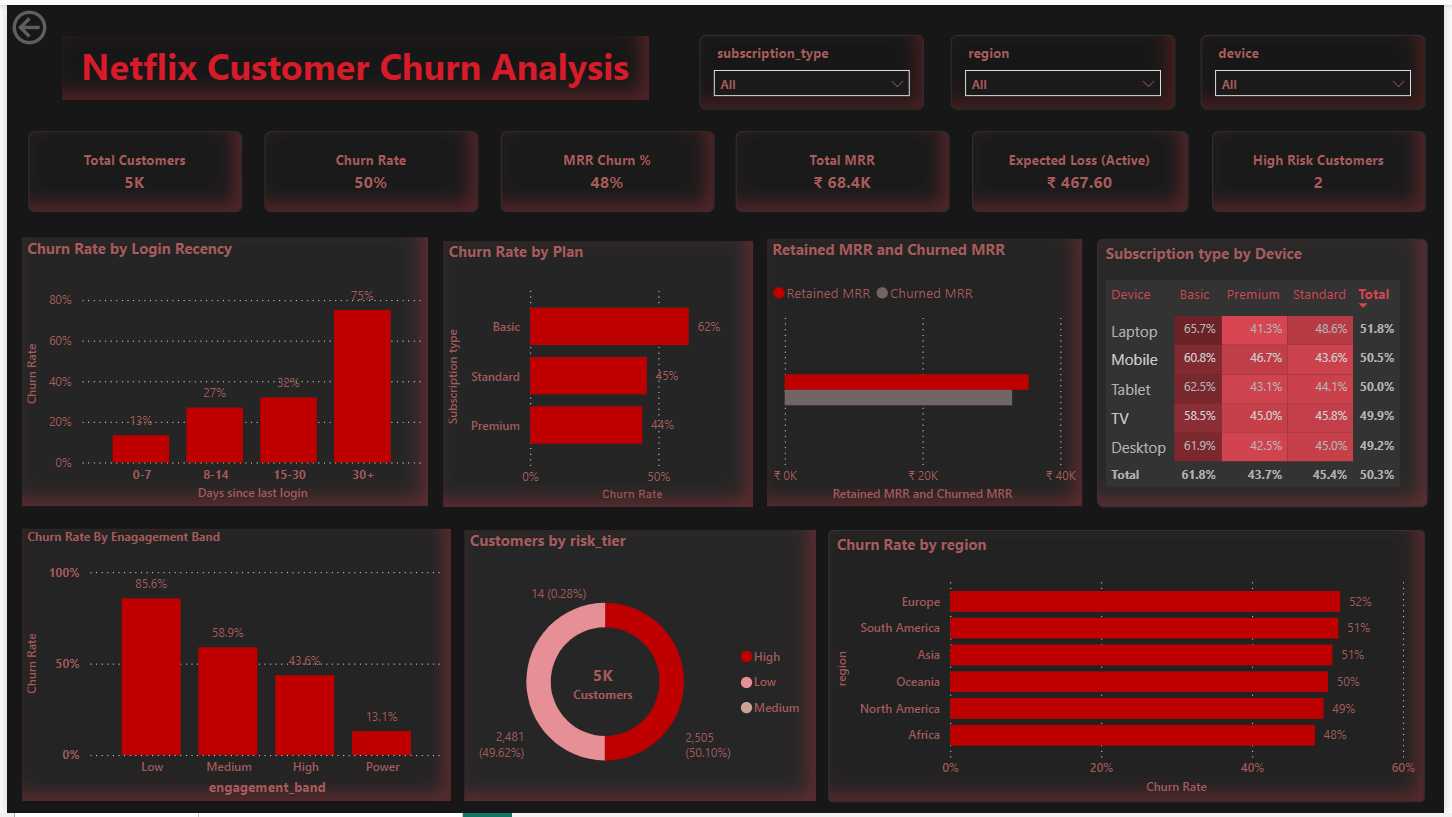

The dashboard page shown, as its layout file describes it:
{"tool":"powerbi","page":{"name":"Executive Summary","canvas":[1280,720],"ordinal":0},"visuals":[{"type":"cardVisual","fields":{"Data":["churn_scored.Churn Rate"]},"box":[228.9,112.5,190,72],"z":0},{"type":"clusteredBarChart","title":"Churn Rate by Plan","fields":{"Category":["churn_scored.subscription_type"],"Y":["churn_scored.Churn Rate"]},"box":[388.5,209.9,276.3,236.5],"z":1000},{"type":"clusteredBarChart","title":"Churn Rate by region","fields":{"Y":["churn_scored.Churn Rate"],"Category":["churn_scored.region"]},"box":[731.2,467.5,530.8,242.5],"z":2000},{"type":"slicer","fields":{"Values":["churn_scored.subscription_type"]},"box":[617.1,27.1,200,66],"z":3000},{"type":"slicer","fields":{"Values":["churn_scored.region"]},"box":[840,27.1,200,66],"z":4000},{"type":"slicer","fields":{"Values":["churn_scored.device"]},"box":[1062.9,27.1,200,66],"z":5000},{"type":"textbox","box":[49.5,27.7,522.4,56.7],"z":6000},{"type":"clusteredColumnChart","title":"Churn Rate by Login Recency","fields":{"Y":["churn_scored.Churn Rate"],"Category":["churn_scored.recency_bucket"]},"box":[13.3,207.5,361.9,238.9],"z":7000},{"type":"clusteredColumnChart","title":"Churn Rate By Enagagement Band","fields":{"Y":["churn_scored.Churn Rate"],"Category":["churn_scored.engagement_band"]},"box":[13.8,466.2,381.2,242.5],"z":8000},{"type":"pivotTable","title":"Subscription type by Device","fields":{"Rows":["churn_scored.device"],"Columns":["churn_scored.subscription_type"],"Values":["churn_scored.Churn Rate"]},"box":[970.3,207.8,294.4,238.9],"z":9000},{"type":"donutChart","fields":{"Category":["churn_scored.risk_tier"],"Y":["churn_scored.Customers"]},"box":[407.1,467.1,312.9,241.4],"z":10000},{"type":"actionButton","box":[0,0,100,40],"z":11000},{"type":"clusteredBarChart","fields":{"Y":["churn_scored.Retained MRR","churn_scored.Churned MRR"]},"box":[676.4,207.8,280.4,238.6],"z":12000},{"type":"cardVisual","fields":{"Data":["churn_scored.MRR Churn %"]},"box":[439.2,112.5,190,72],"z":13000},{"type":"cardVisual","fields":{"Data":["churn_scored.Customers"]},"box":[18.6,112.5,190,72],"z":14000},{"type":"cardVisual","fields":{"Data":["Save Rate.Expected Loss (Active)"]},"box":[859.8,112.5,192.9,72],"z":15000},{"type":"cardVisual","fields":{"Data":["churn_scored.Total MRR"]},"box":[649.5,112.5,190,72],"z":16000},{"type":"cardVisual","fields":{"Data":["churn_scored.High Risk Customers"]},"box":[1073,112.5,190,72],"z":17000},{"type":"cardVisual","fields":{"Data":["churn_scored.Customers"]},"box":[475.7,561.4,111.4,84.3],"z":18000}]}

Visuals, with their boxes in screenshot pixels (x1, y1, x2, y2), scaled from the page's 1280x720 canvas onto the 1452x817 screenshot:
cardVisual - churn_scored.Churn Rate: {"left": 260, "top": 128, "right": 475, "bottom": 209}
"Churn Rate by Plan" clusteredBarChart: {"left": 441, "top": 238, "right": 754, "bottom": 507}
"Churn Rate by region" clusteredBarChart: {"left": 829, "top": 530, "right": 1432, "bottom": 806}
slicer - churn_scored.subscription_type: {"left": 700, "top": 31, "right": 927, "bottom": 106}
slicer - churn_scored.region: {"left": 953, "top": 31, "right": 1180, "bottom": 106}
slicer - churn_scored.device: {"left": 1206, "top": 31, "right": 1433, "bottom": 106}
textbox: {"left": 56, "top": 31, "right": 649, "bottom": 96}
"Churn Rate by Login Recency" clusteredColumnChart: {"left": 15, "top": 235, "right": 426, "bottom": 507}
"Churn Rate By Enagagement Band" clusteredColumnChart: {"left": 16, "top": 529, "right": 448, "bottom": 804}
"Subscription type by Device" pivotTable: {"left": 1101, "top": 236, "right": 1435, "bottom": 507}
donutChart - churn_scored.risk_tier x churn_scored.Customers: {"left": 462, "top": 530, "right": 817, "bottom": 804}
actionButton: {"left": 0, "top": 0, "right": 113, "bottom": 45}
clusteredBarChart - churn_scored.Retained MRR x churn_scored.Churned MRR: {"left": 767, "top": 236, "right": 1085, "bottom": 507}
cardVisual - churn_scored.MRR Churn %: {"left": 498, "top": 128, "right": 714, "bottom": 209}
cardVisual - churn_scored.Customers: {"left": 21, "top": 128, "right": 237, "bottom": 209}
cardVisual - Save Rate.Expected Loss (Active): {"left": 975, "top": 128, "right": 1194, "bottom": 209}
cardVisual - churn_scored.Total MRR: {"left": 737, "top": 128, "right": 952, "bottom": 209}
cardVisual - churn_scored.High Risk Customers: {"left": 1217, "top": 128, "right": 1433, "bottom": 209}
cardVisual - churn_scored.Customers: {"left": 540, "top": 637, "right": 666, "bottom": 733}
